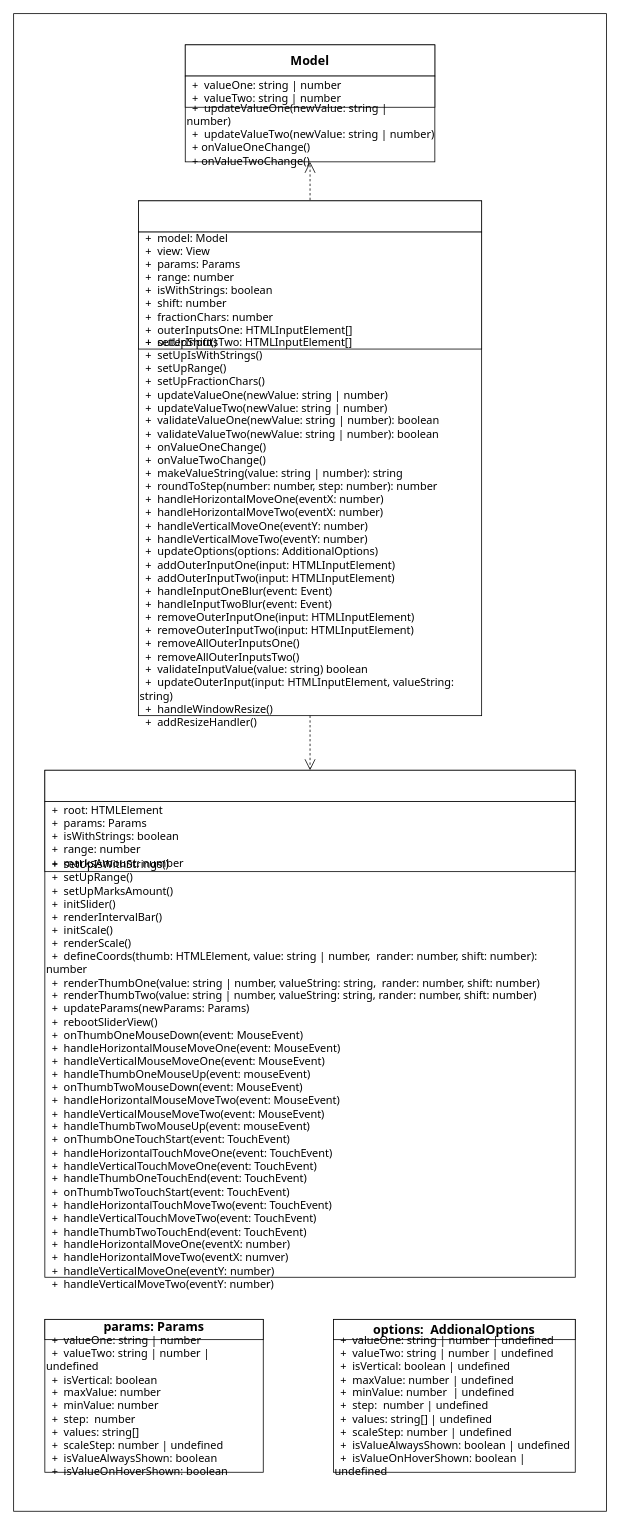
The diagram is 620 pixels wide and 1525 high, and some of its shapes have lost their labels. Here are the shapes that lost their labels. From the top down, the centre of each, then its label:
At (x=310, y=216): "Presenter".
At (x=309, y=785): "View".
